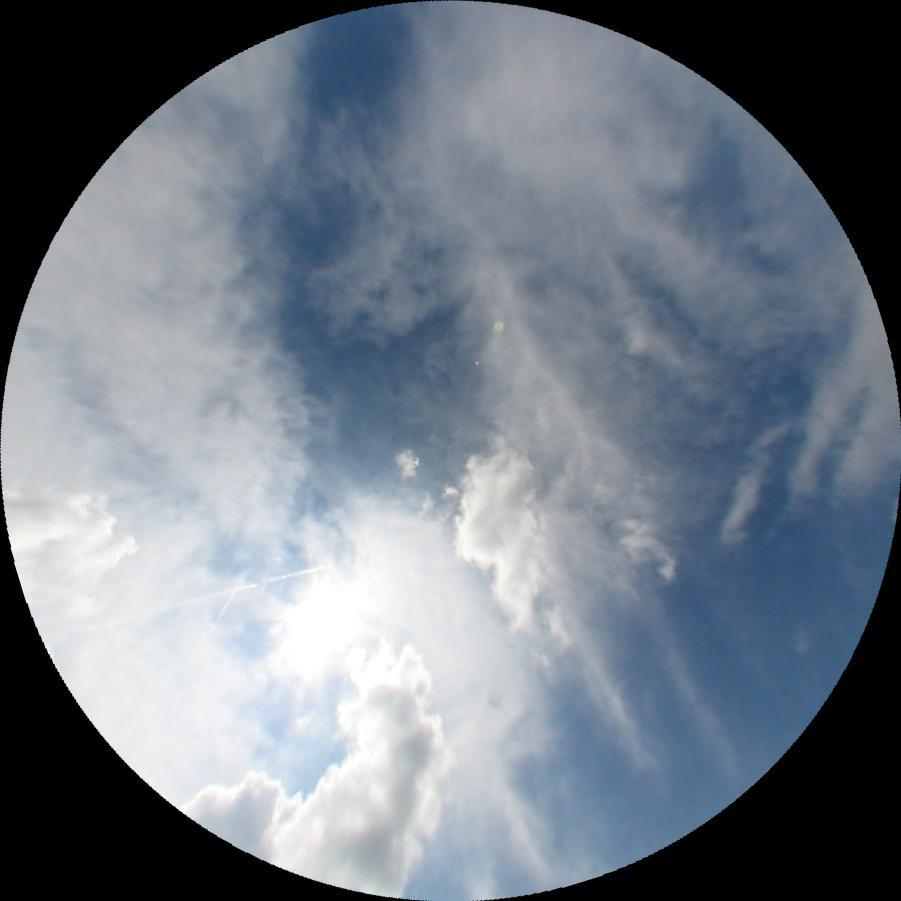contrail young: (216, 588, 238, 619)
parasite: (83, 563, 324, 632)
sun: (273, 586, 363, 673)
